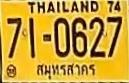0: (54, 17, 69, 56)
1: (28, 18, 34, 57)
2: (89, 16, 104, 56)
6: (71, 17, 86, 56)
7: (106, 16, 121, 56), (6, 17, 21, 57)
SKN: (32, 60, 97, 82)
